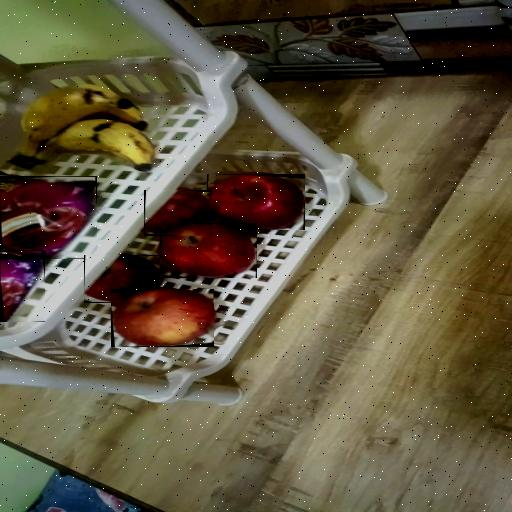Apple: (111, 289, 214, 347), (207, 174, 305, 230), (160, 223, 257, 278), (84, 255, 160, 303), (144, 190, 212, 236)
Choco Pie: (0, 176, 97, 259), (0, 250, 45, 322)
